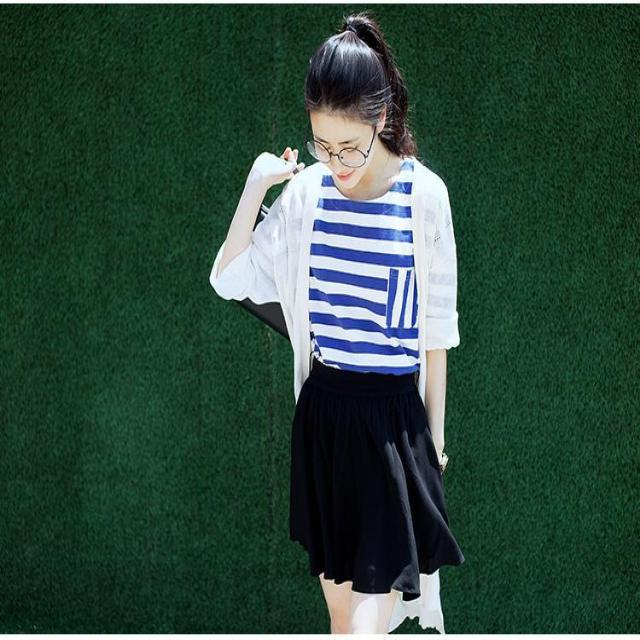long sleeve outwear: (212, 163, 383, 634)
skirt: (291, 361, 464, 595)
